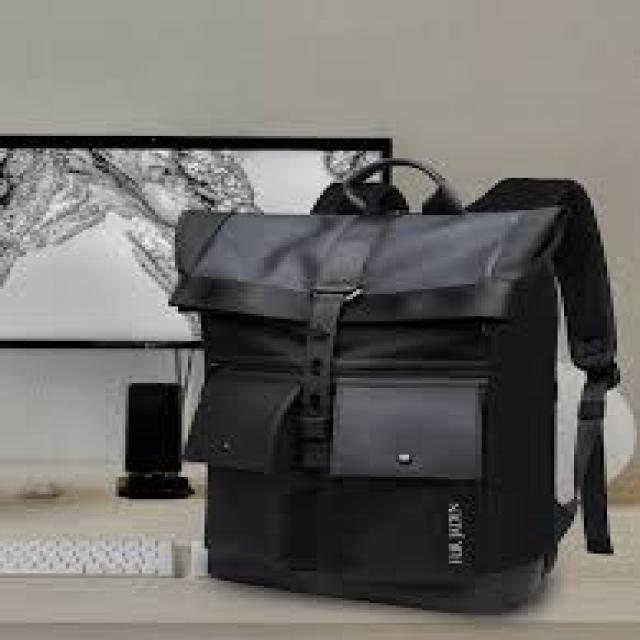backpack: (166, 157, 621, 614)
